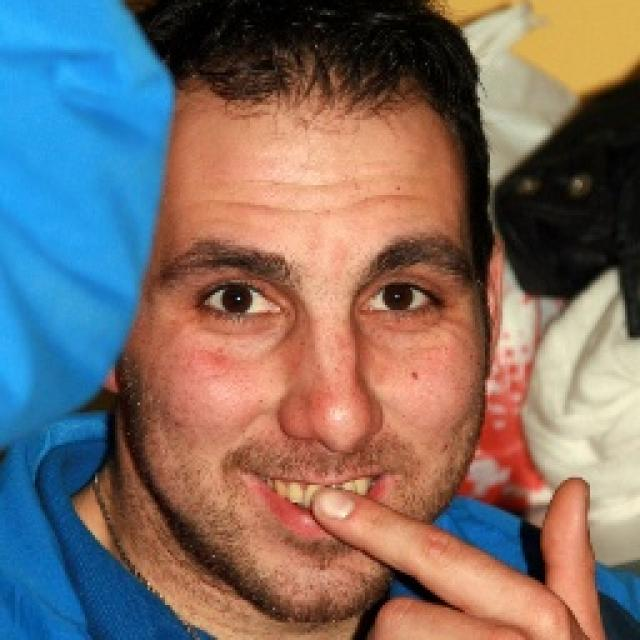eye: (196, 281, 284, 316), (358, 280, 441, 315)
nose: (274, 422, 404, 498)
